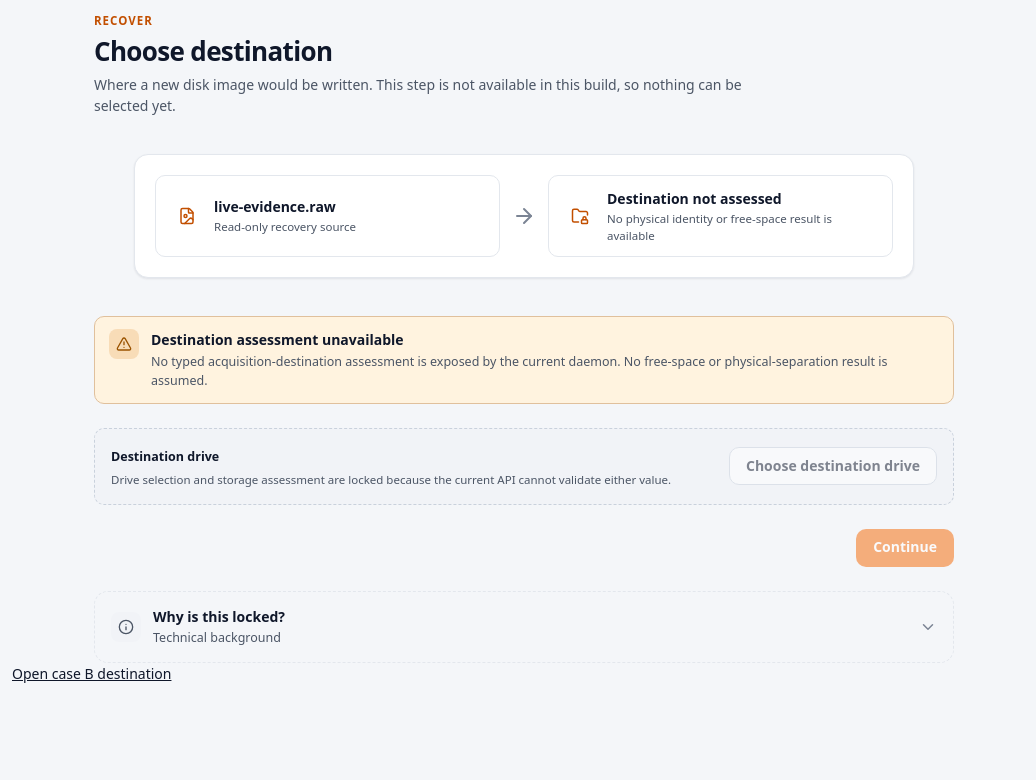
Scenario: live renderer pages › clears a destination source when the next case has no active source
This screenshot has width=1036, height=780.
Expected: the text "live-evidence.raw" is shown, [214, 197, 336, 216]
Click the link "Open case B destination".
click(92, 673)  # box [12, 664, 172, 682]
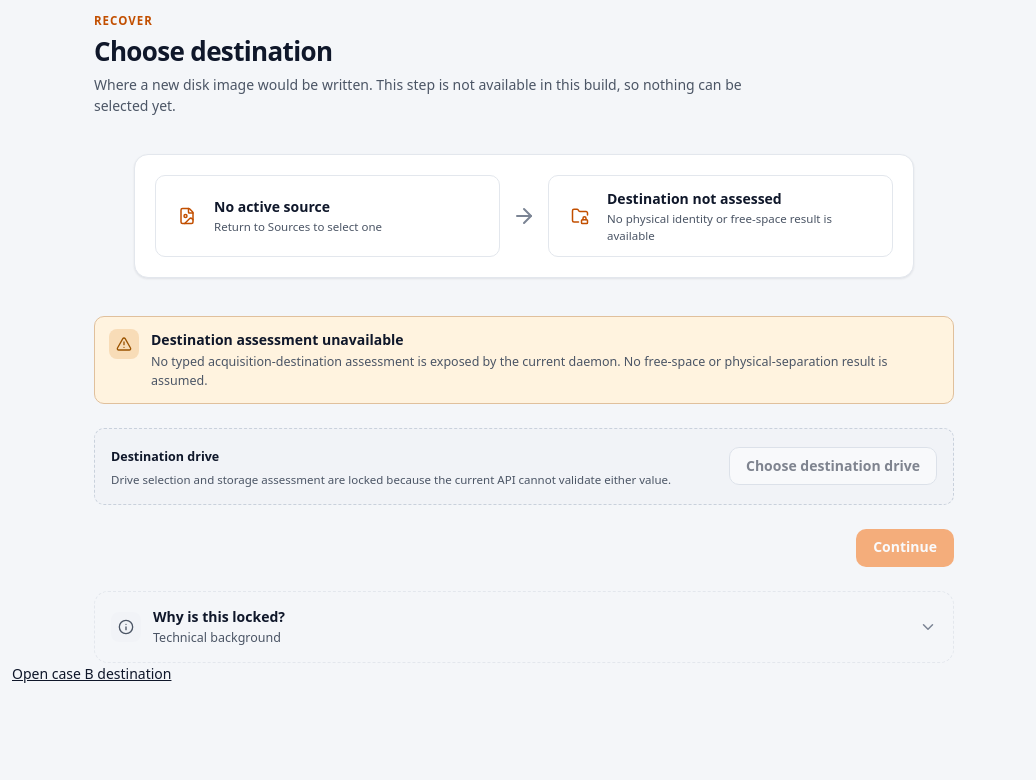
Expected: the text "No active source" is shown, [214, 197, 330, 216]
Expected: the text "live-evidence.raw" is gone
